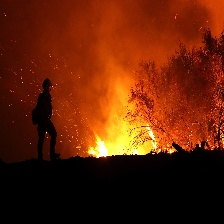fire: (78, 127, 115, 162), (142, 122, 159, 157)
smoke: (72, 13, 150, 113)
